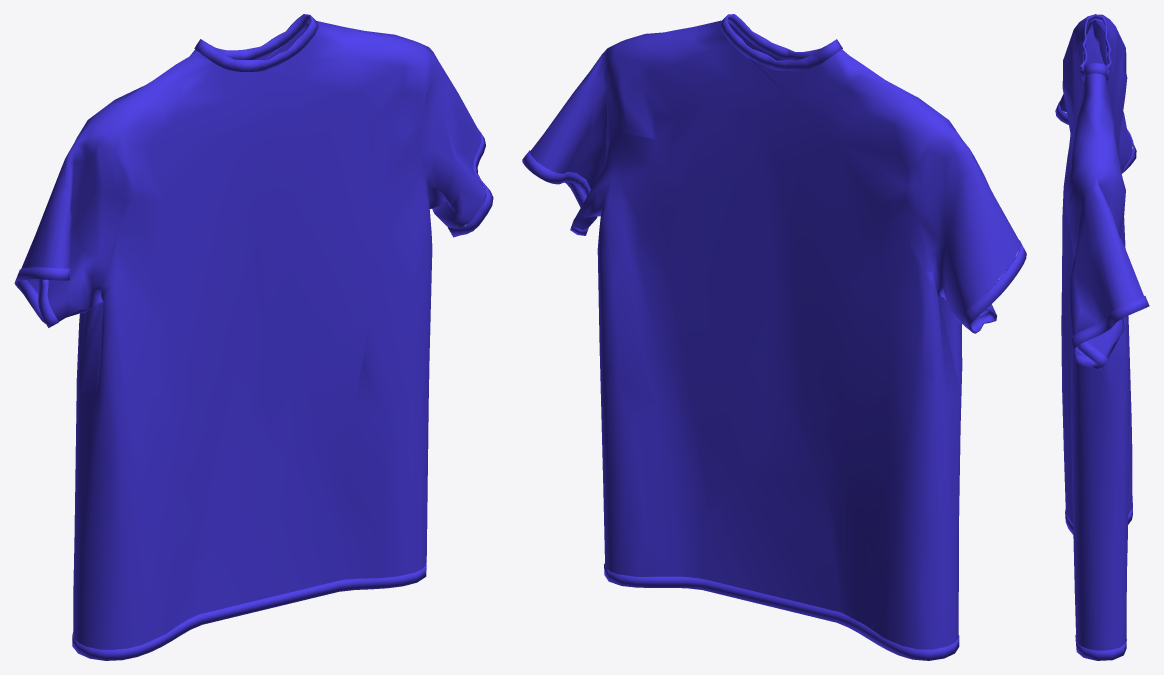
The model's file is Cloth_4.fbx.
3 views of the same model, side by side, from view 1: azimuth 30°, elevation 25°; view 2: azimuth 150°, elevation 25°; view 3: azimuth 270°, elevation 25° (orthographic). The views are drawn at different scales.
Visible parts, largest first — view 1: Cloth_4; view 2: Cloth_4; view 3: Cloth_4.
Part boxes in pixels (x1=…): Cloth_4: x1=14, y1=14, x2=493, y2=660; Cloth_4: x1=522, y1=14, x2=1026, y2=660; Cloth_4: x1=1055, y1=14, x2=1149, y2=660.
Size of the model in its own units: 66.71 by 78.1 by 12.24.
